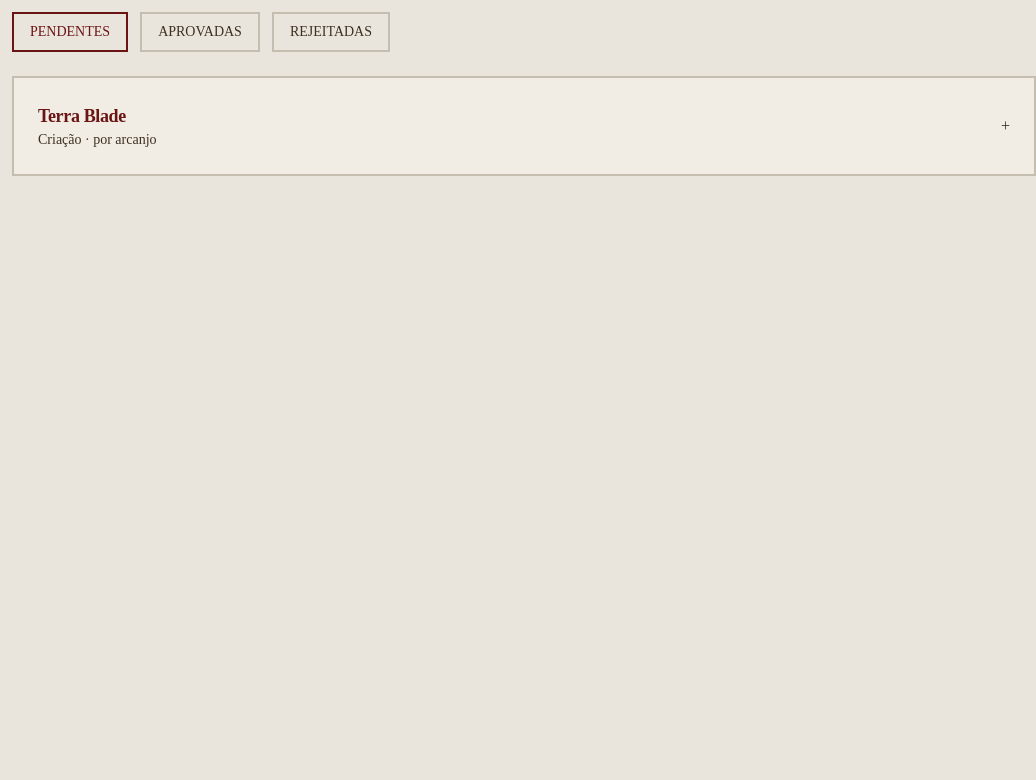
AdminContributeView › lists pending submissions by default and expands to show details
Click the heading "Terra Blade" at coordinates (82, 116), box [38,106,126,126]
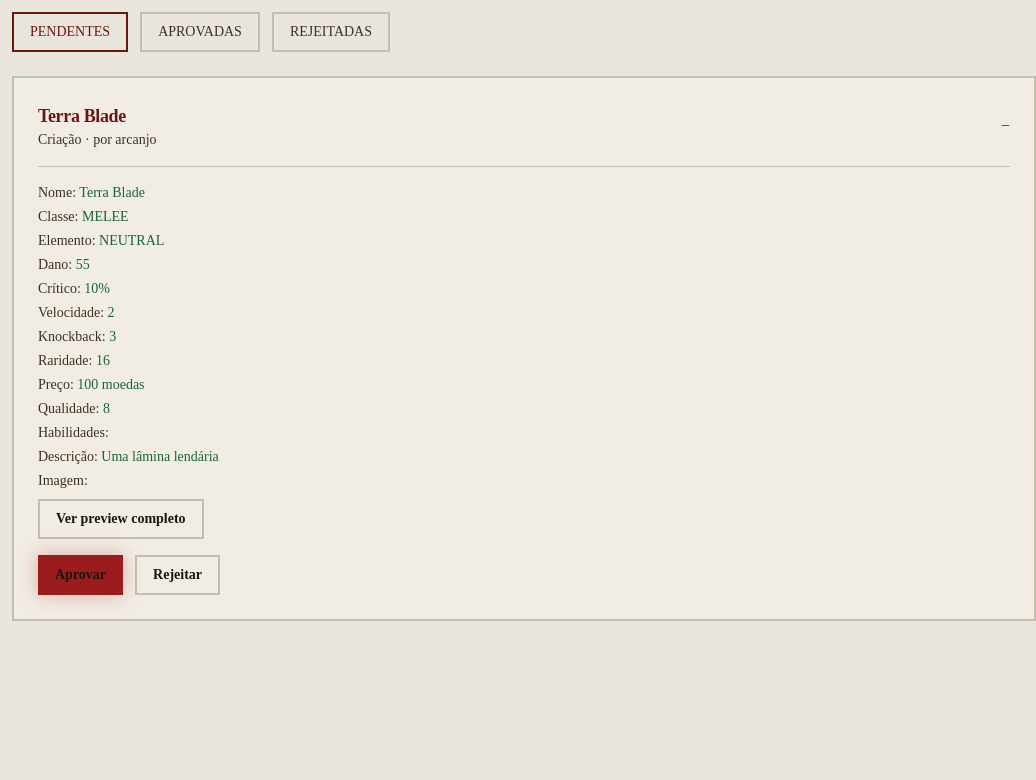
Now the text "Uma lâmina lendária" is shown, box [101,449,219,464]
